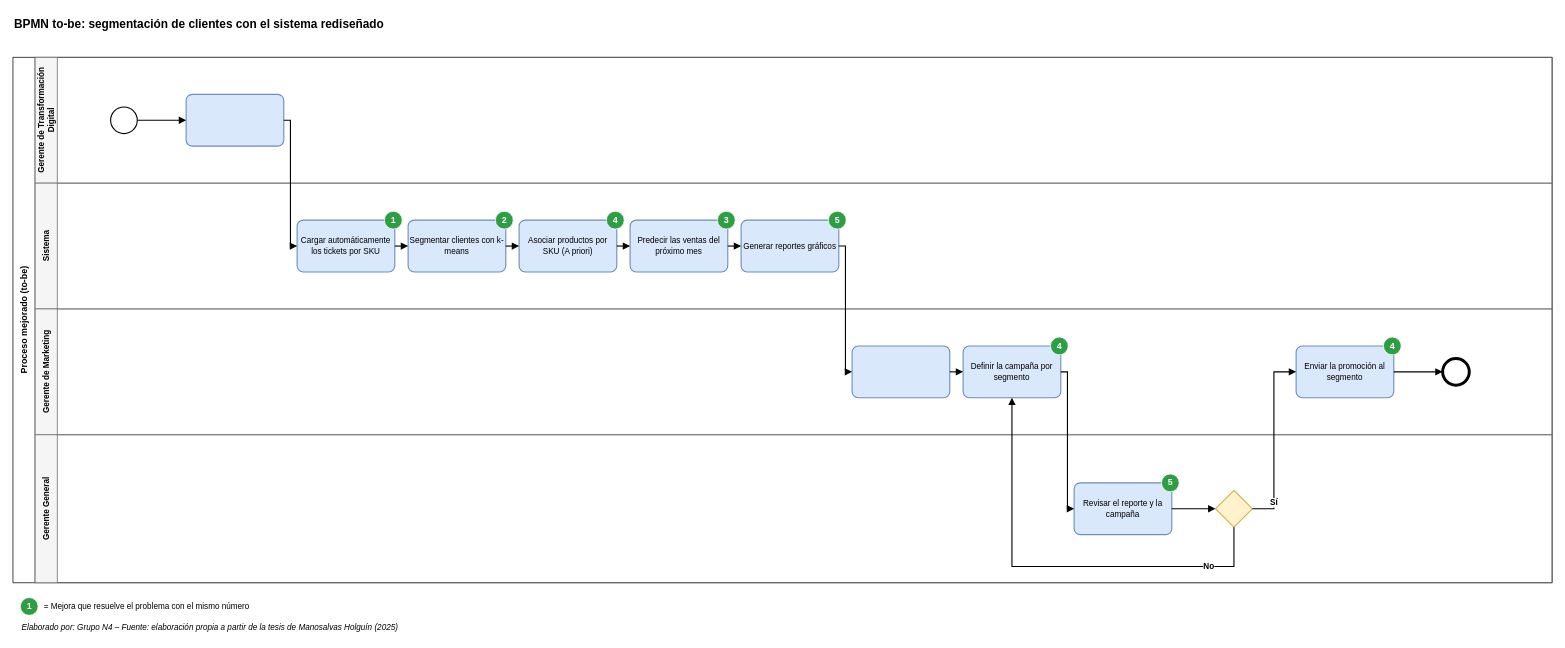
The diagram is 1565 pixels wide and 648 high, and some of its shapes have lost their labels. Here are the shapes that lost their labels. From the top down, the centre of each, then its label:
At [123,120]: "Se registran nuevas ventas en el ERP".
At [234,119]: "Depurar la base de datos de ventas".
At [900,371]: "Revisar segmentos y predicciones".
At [1455,371]: "Campaña ejecutada".
At [1234,508]: "¿Se aprueba la campaña?".
